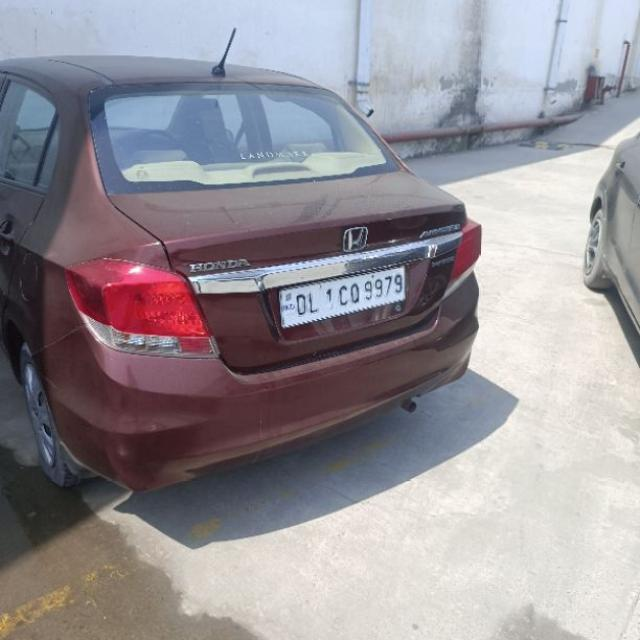license_plate: (277, 262, 408, 330)
